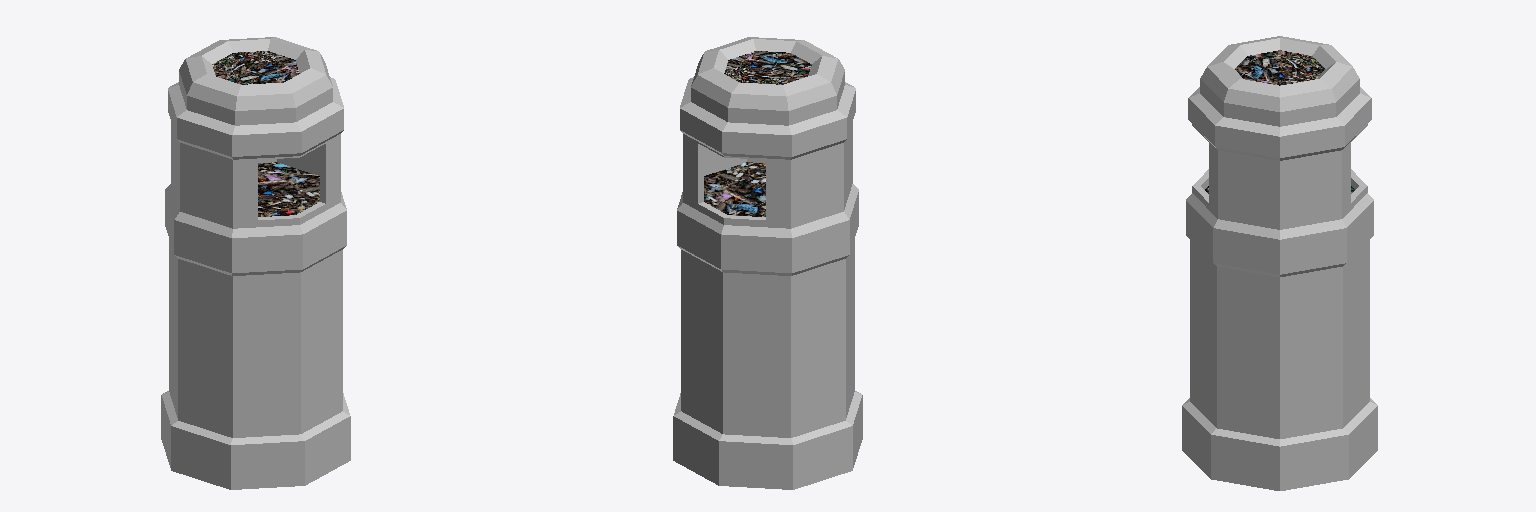
The picture shows the model from 3 angles: view 1: azimuth 30°, elevation 25°; view 2: azimuth 150°, elevation 25°; view 3: azimuth 270°, elevation 25°; orthographic projection.
Parts seen in each view (by area): view 1: BoteBasura; view 2: BoteBasura; view 3: BoteBasura.
Part boxes in pixels (x1,y1,x2,y2): BoteBasura: (161, 37, 350, 489); BoteBasura: (673, 37, 862, 489); BoteBasura: (1182, 36, 1377, 490).
Size of the model in its own units: 3.01 by 6.59 by 3.01.
3 materials, 1 textured.